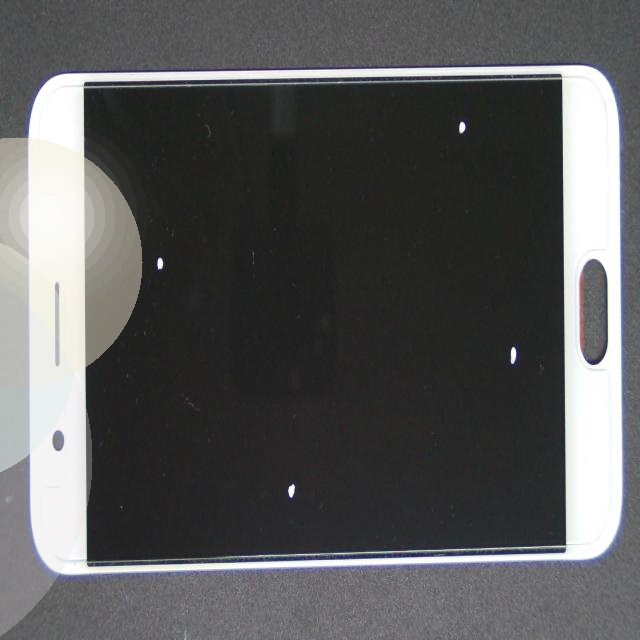stain: (264, 219, 640, 543), (167, 258, 453, 640), (86, 91, 228, 379), (248, 82, 640, 179)
